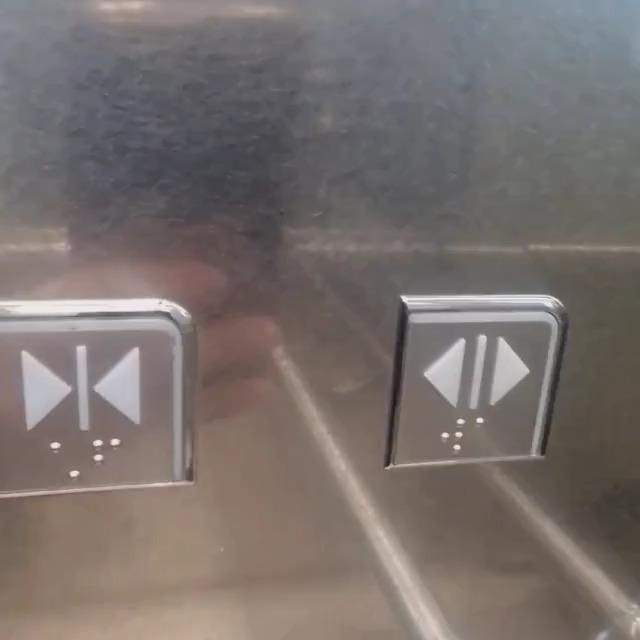button: (0, 298, 197, 495), (378, 298, 569, 478)
